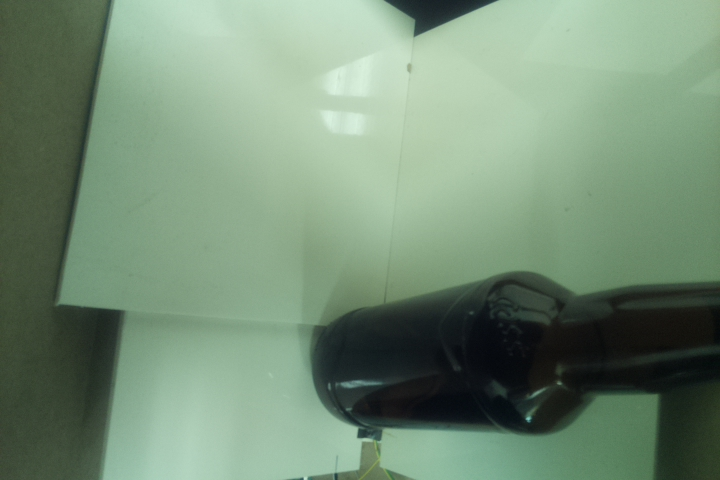makju: (306, 270, 720, 437)
